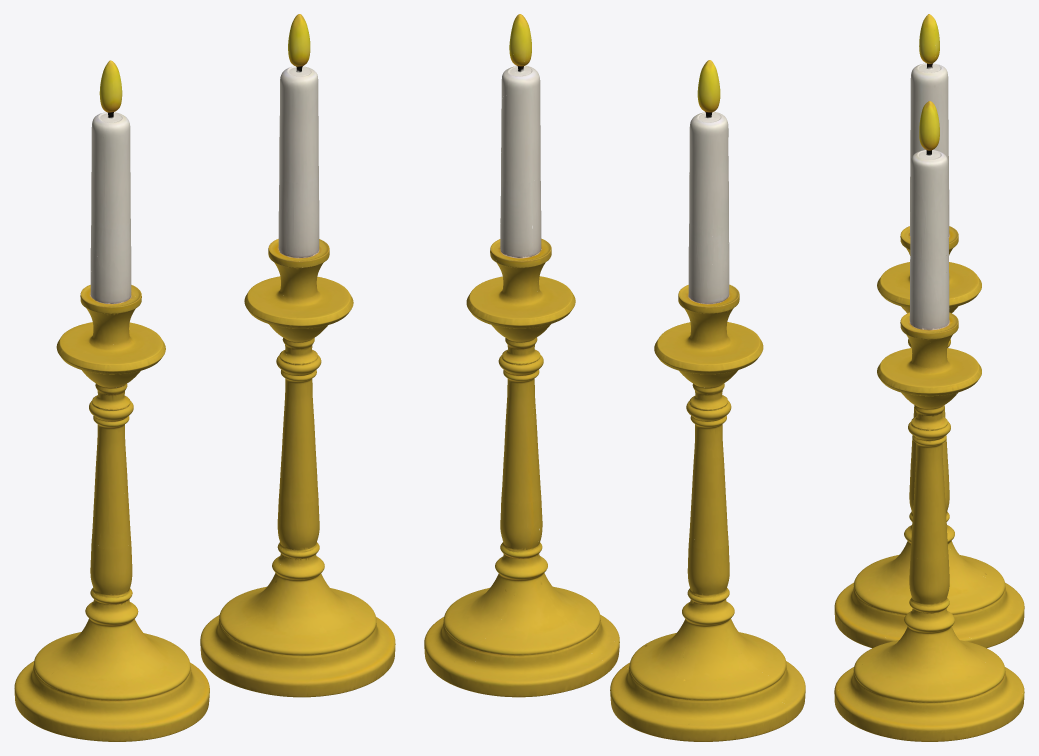
Rendered from shabbat-candlesticks.glb.
3 views of the same model, side by side, from view 1: azimuth 30°, elevation 25°; view 2: azimuth 150°, elevation 25°; view 3: azimuth 270°, elevation 25° (orthographic). The views are drawn at different scales.
Visible parts, largest first — view 1: tripo_node_1c48b746-9aa9-4bac-9beb-1290b656412a; view 2: tripo_node_1c48b746-9aa9-4bac-9beb-1290b656412a; view 3: tripo_node_1c48b746-9aa9-4bac-9beb-1290b656412a.
Part boxes in pixels (x1,y1,x2,y2): tripo_node_1c48b746-9aa9-4bac-9beb-1290b656412a: (14, 14, 395, 741); tripo_node_1c48b746-9aa9-4bac-9beb-1290b656412a: (424, 14, 805, 741); tripo_node_1c48b746-9aa9-4bac-9beb-1290b656412a: (834, 14, 1024, 741).
Bounding box in the file's own units: 0.5669 × 0.9787 × 0.2794.
1 material, 1 textured.
